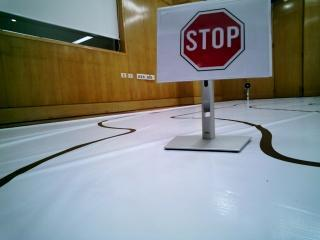stop: (159, 8, 262, 79)
